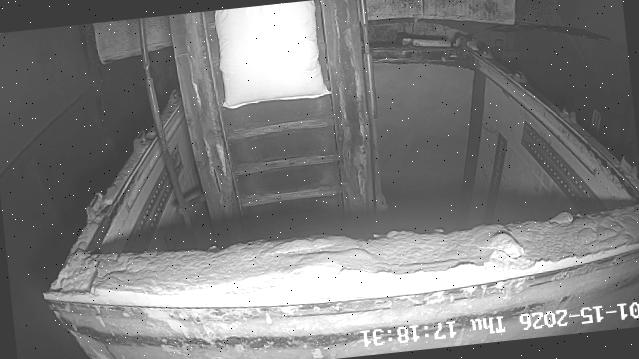bag: (209, 0, 330, 110)
